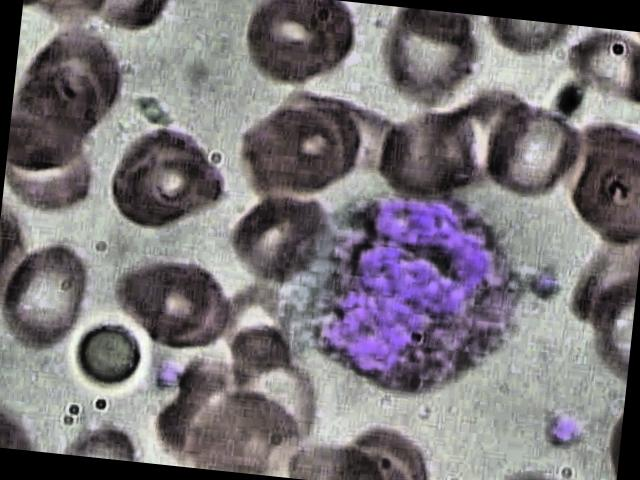Platelets: (544, 408, 586, 450), (522, 266, 562, 308), (152, 358, 184, 392)
WBC: (292, 173, 534, 408)
